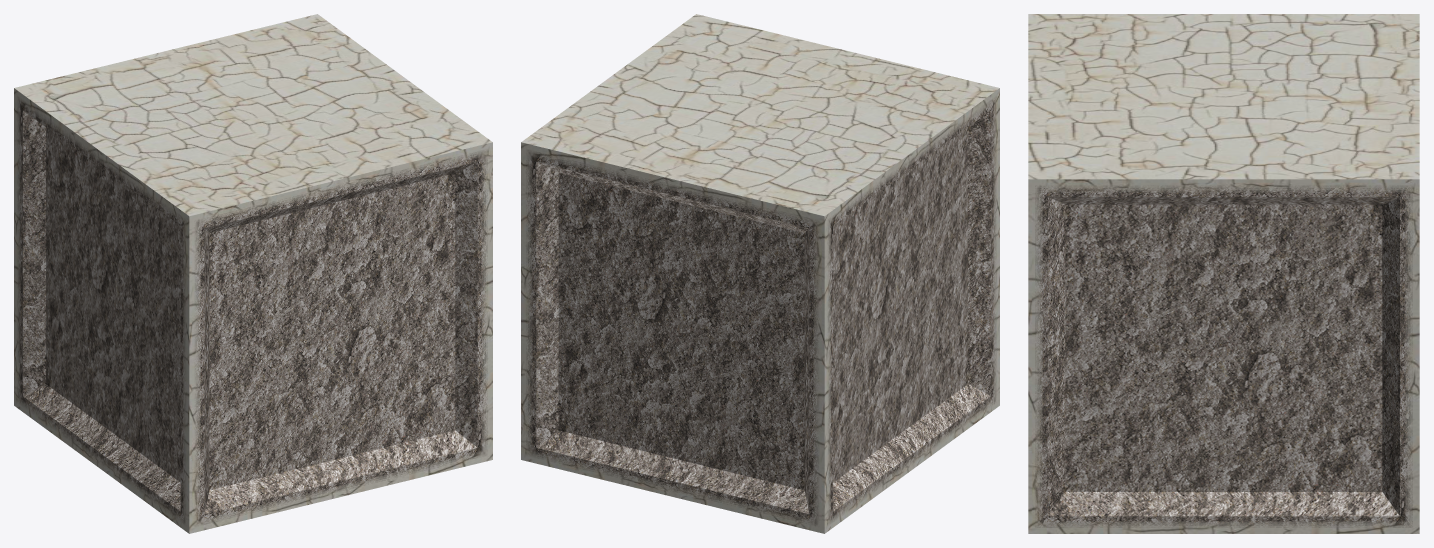
Rendered from CubeCrumble.fbx.
3 views of the same model, side by side, from view 1: azimuth 30°, elevation 25°; view 2: azimuth 150°, elevation 25°; view 3: azimuth 270°, elevation 25° (orthographic). The views are drawn at different scales.
Parts seen in each view (by area): view 1: Cube; view 2: Cube; view 3: Cube.
Part boxes in pixels (x1=…): Cube: x1=14, y1=14, x2=492, y2=533; Cube: x1=521, y1=14, x2=999, y2=533; Cube: x1=1028, y1=14, x2=1419, y2=533.
Bounding box in the file's own units: 200 × 200 × 200.
